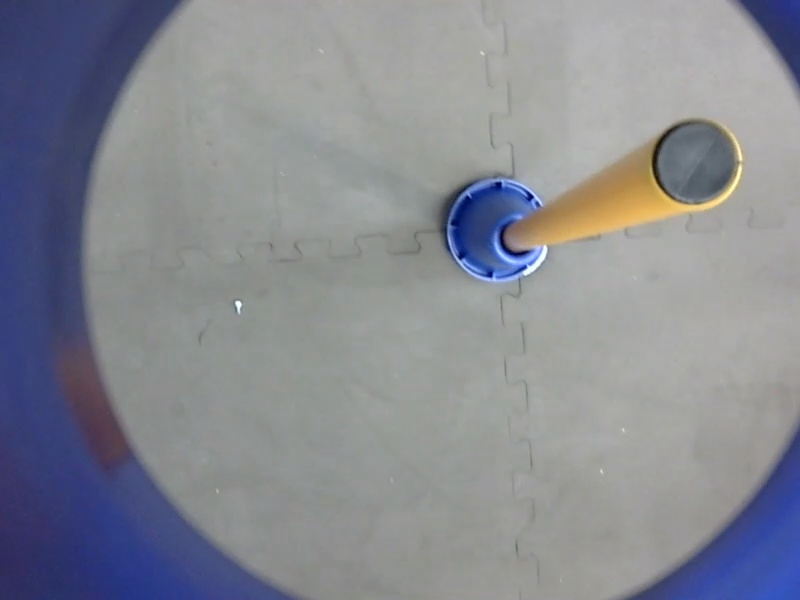tip: (643, 111, 748, 215)
